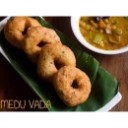vada: (57, 65, 91, 103), (41, 43, 75, 79), (26, 26, 60, 60), (4, 17, 40, 44)
